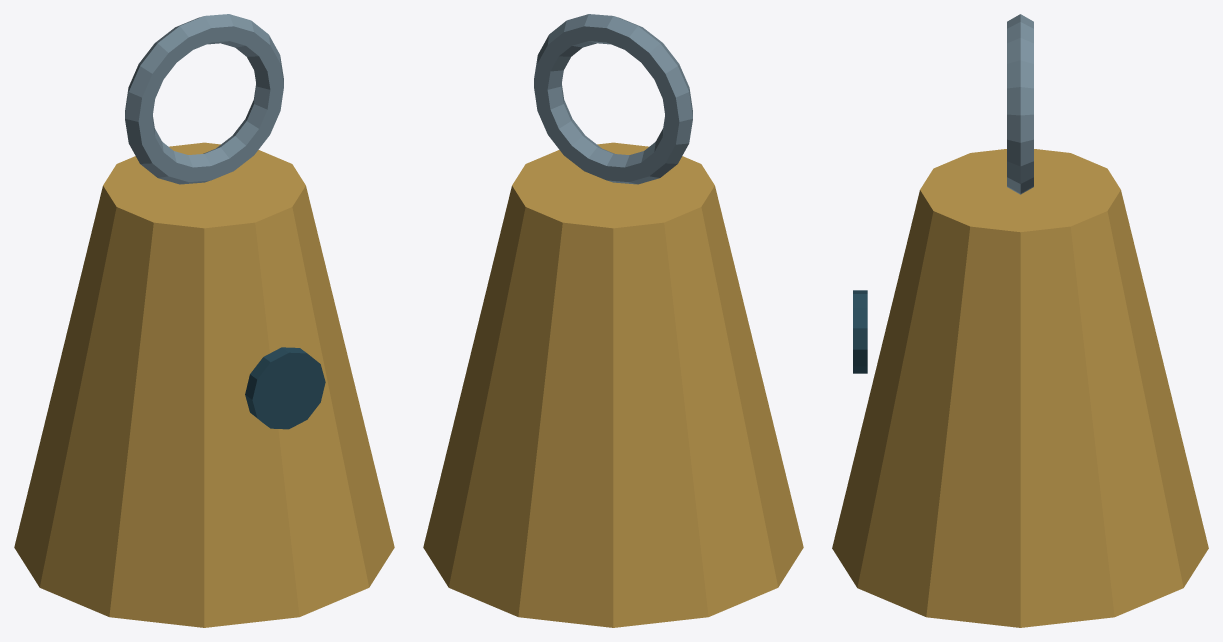
File: equipment-diving-bell.lod0.glb
3 renders of one model, left to right at view 1: azimuth 30°, elevation 25°; view 2: azimuth 150°, elevation 25°; view 3: azimuth 270°, elevation 25°, orthographic.
Visible parts, largest first — view 1: equipment-diving-bell__body; view 2: equipment-diving-bell__body; view 3: equipment-diving-bell__body.
Boxes of the visible parts, x1,y1,x2,y2 form: equipment-diving-bell__body: (14, 14, 394, 627); equipment-diving-bell__body: (423, 14, 803, 627); equipment-diving-bell__body: (832, 14, 1208, 627).
Bounding box in the file's own units: 1.8 × 2.78 × 1.8.
